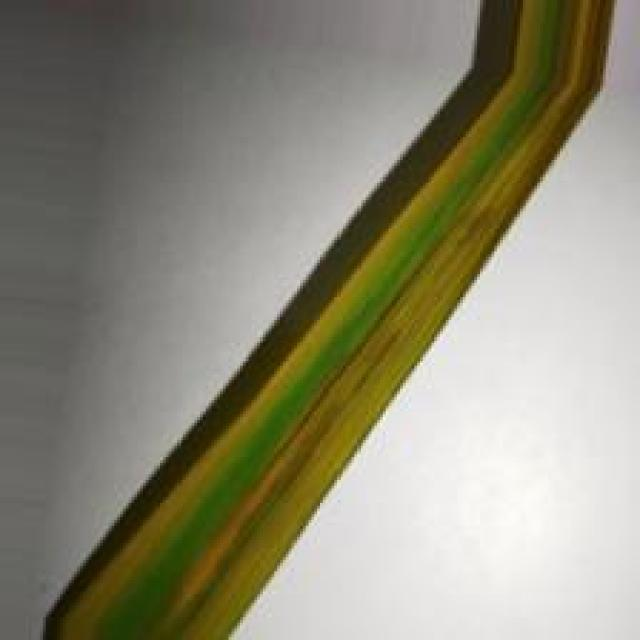Narrow_Brown_Leaf_Spot: (51, 0, 542, 640), (145, 0, 622, 640)
